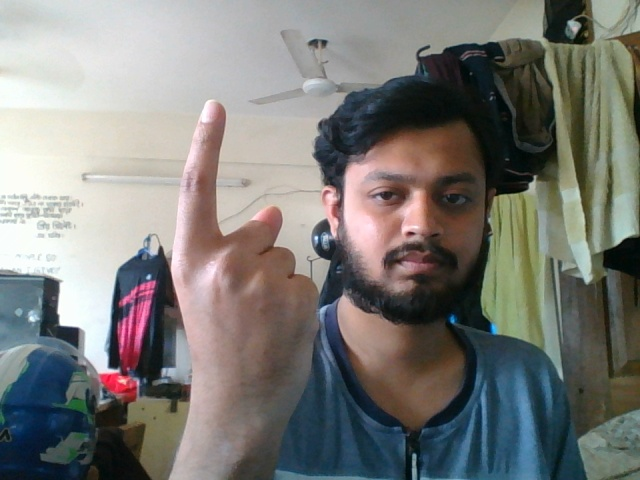u: (159, 94, 330, 445)
